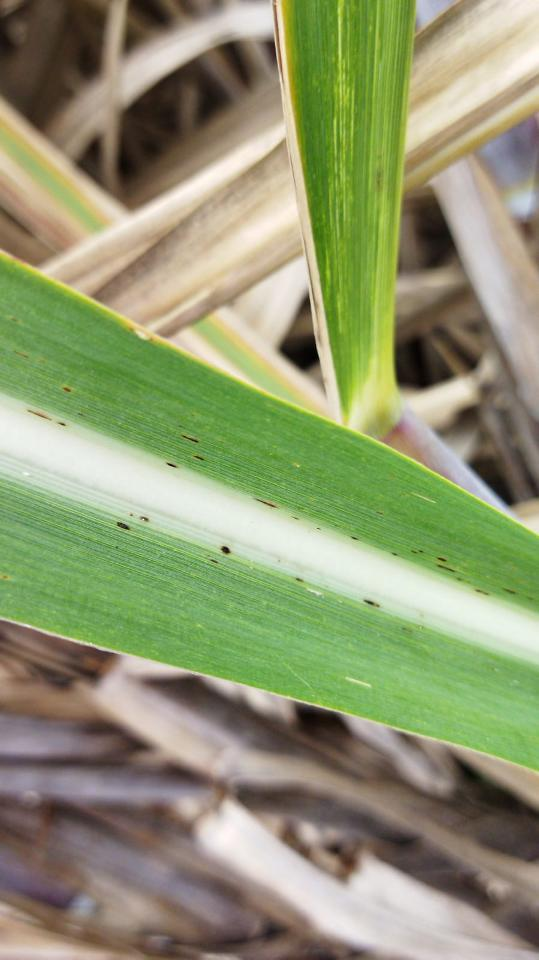Rust: (389, 547, 458, 575), (26, 408, 68, 429), (253, 497, 280, 511), (111, 519, 133, 534), (179, 432, 200, 445), (362, 598, 382, 609), (471, 588, 492, 598), (191, 451, 208, 463), (219, 543, 233, 556), (165, 460, 180, 471), (502, 586, 518, 596), (349, 534, 364, 543), (60, 385, 73, 395), (139, 514, 149, 526), (293, 576, 307, 584), (209, 557, 220, 566), (290, 514, 300, 522)
